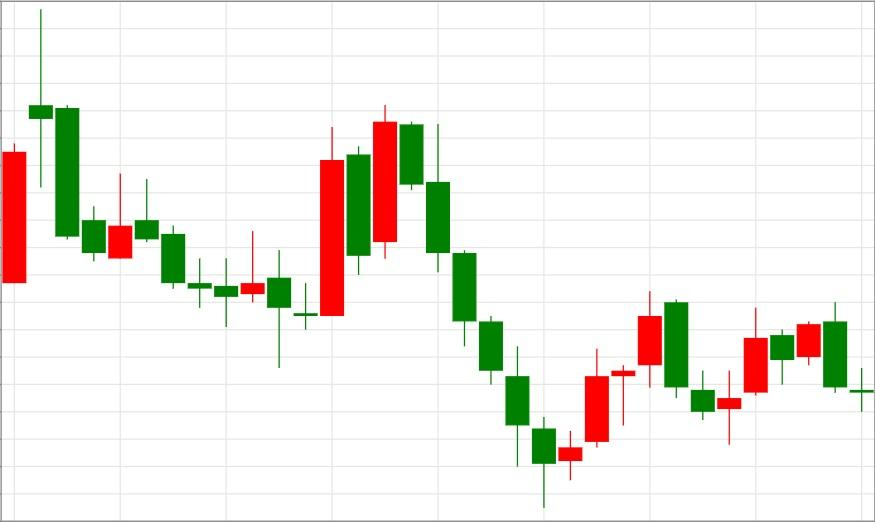three_black_crows_fall: (267, 105, 477, 367)
